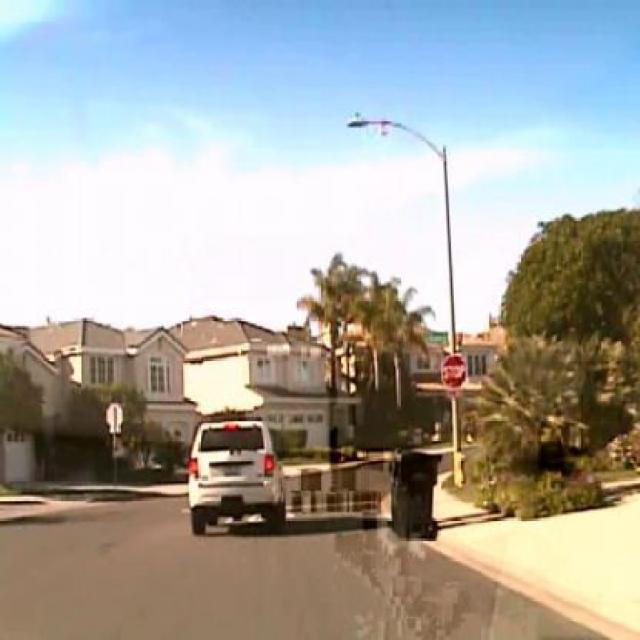Stop: (440, 352, 466, 392)
